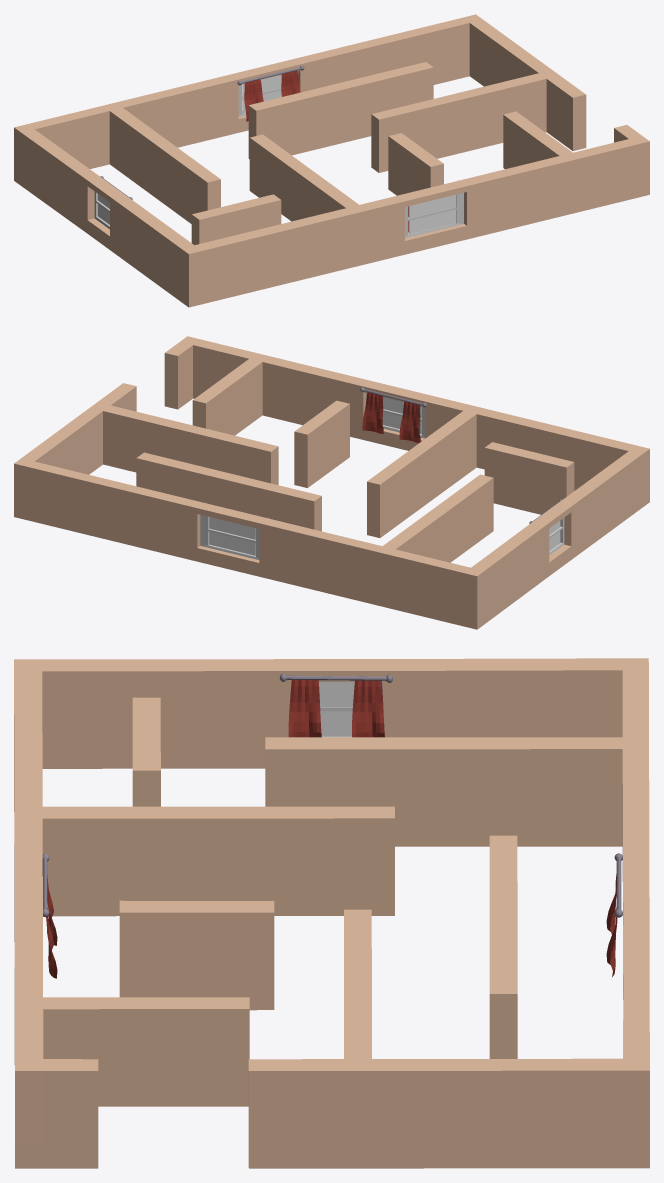
File: Level 3.fbx
3 views of the same model, one above another, from view 1: azimuth 30°, elevation 25°; view 2: azimuth 150°, elevation 25°; view 3: azimuth 270°, elevation 25° (orthographic). The views are drawn at different scales.
Parts seen in each view (by area): view 1: polySurface54, pasted__wind1, polySurface50, pasted__pasted__clowt1; view 2: polySurface54, pasted__wind1, polySurface50, pasted__pasted__clowt1; view 3: polySurface54, pasted__pasted__clowt1, polySurface50, pasted__wind1.
Boxes of the visible parts, left/top/right/bottom form: polySurface54: left=14, top=14, right=649, bottom=307; pasted__wind1: left=405, top=192, right=463, bottom=238; polySurface50: left=237, top=66, right=304, bottom=121; pasted__pasted__clowt1: left=94, top=176, right=132, bottom=229; polySurface54: left=14, top=336, right=649, bottom=629; pasted__wind1: left=360, top=387, right=426, bottom=442; polySurface50: left=200, top=502, right=268, bottom=559; pasted__pasted__clowt1: left=529, top=499, right=564, bottom=555; polySurface54: left=14, top=658, right=649, bottom=1168; pasted__pasted__clowt1: left=279, top=673, right=392, bottom=737; polySurface50: left=606, top=853, right=622, bottom=977; pasted__wind1: left=42, top=853, right=57, bottom=978.
Size of the model in its own units: 154 by 16.93 by 99.98.
